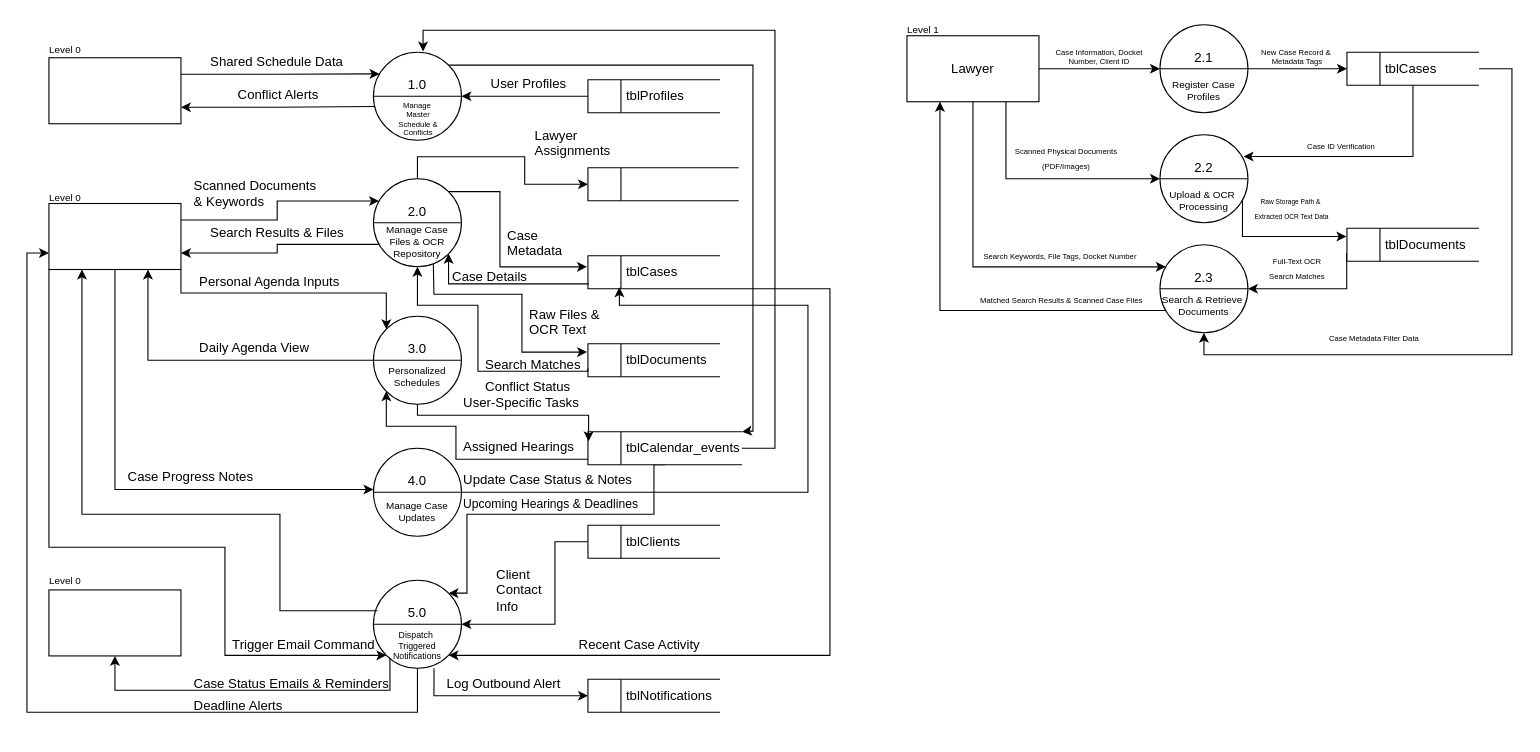
This 1540x752 diagram has some shape labels left out. The shapes that lost their labels are listed below. From the top down, each one's centre as x and y in pixels, then its label:
At (114,90): "Administrator".
At (663,184): "tblCase_Lawyers".
At (114,236): "Lawyers".
At (114,622): "Clients".
